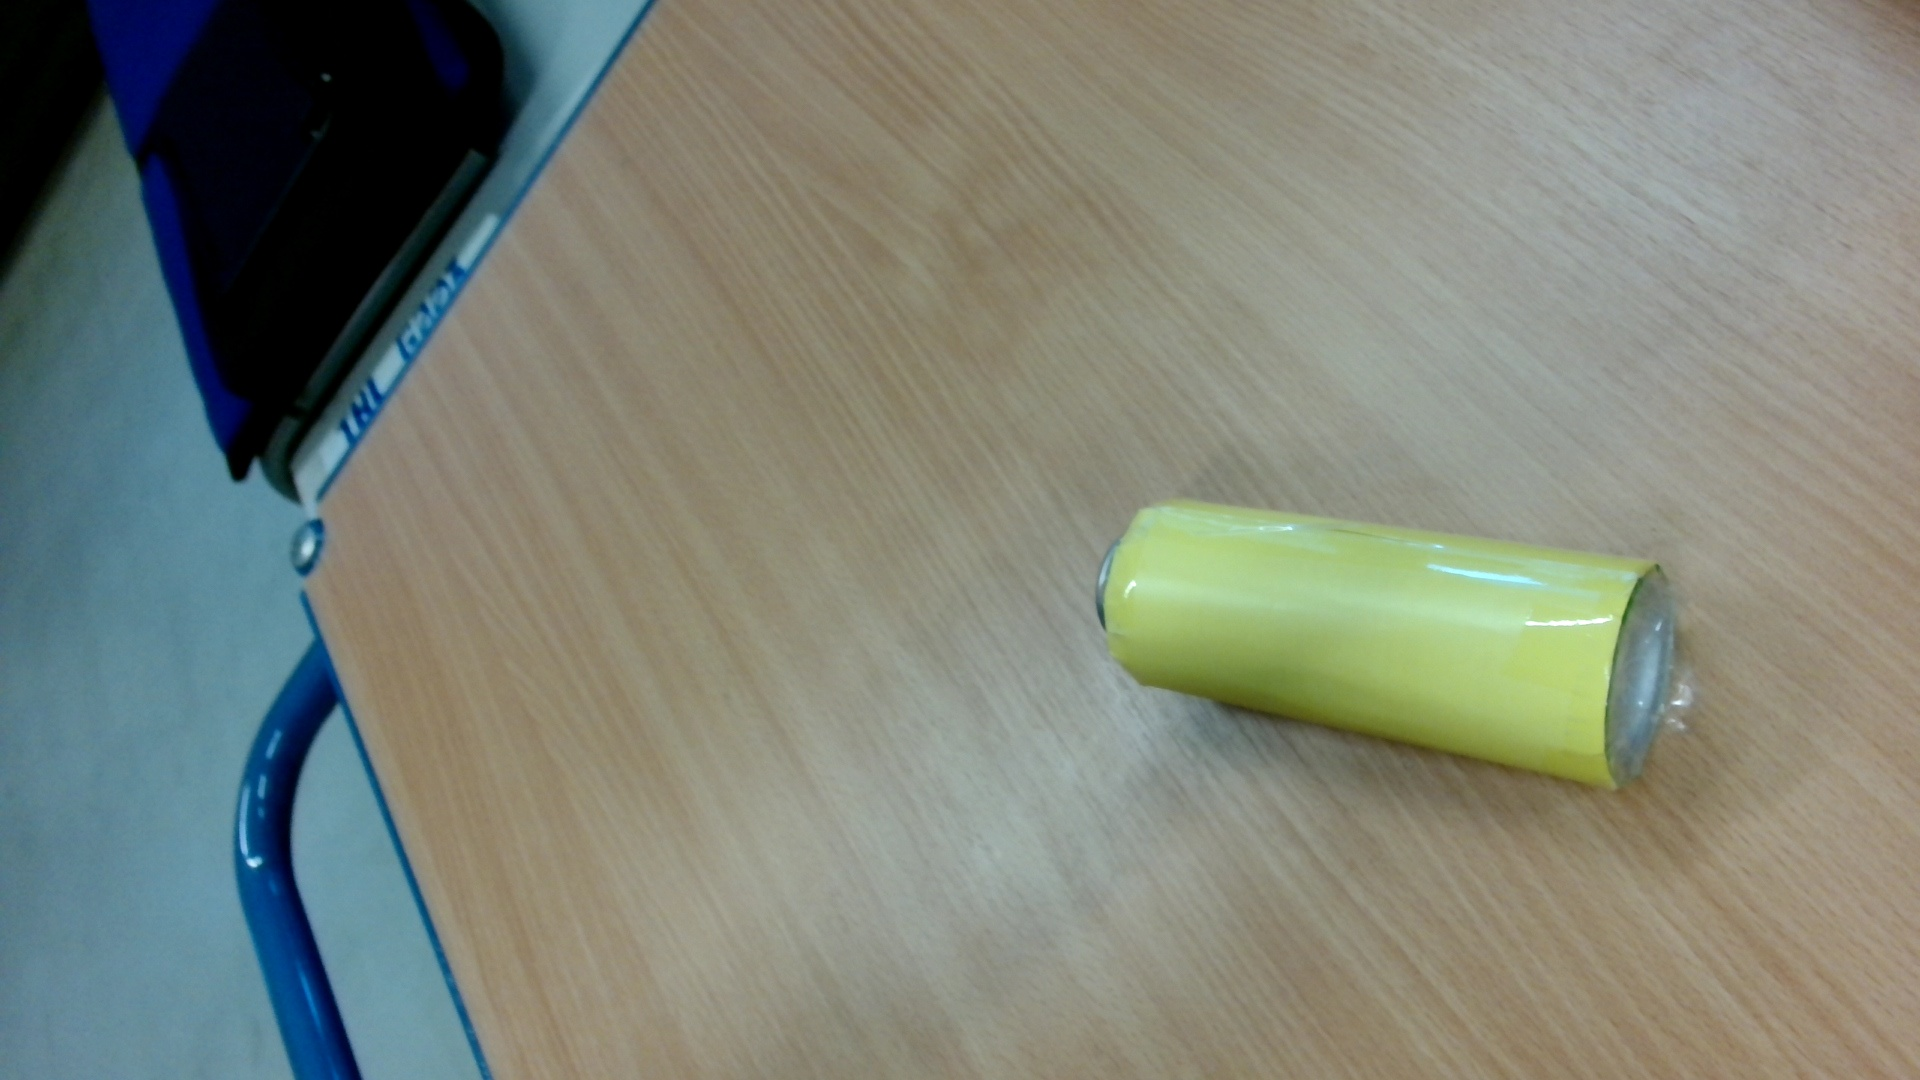Cylinder: (1080, 487, 1706, 804)
